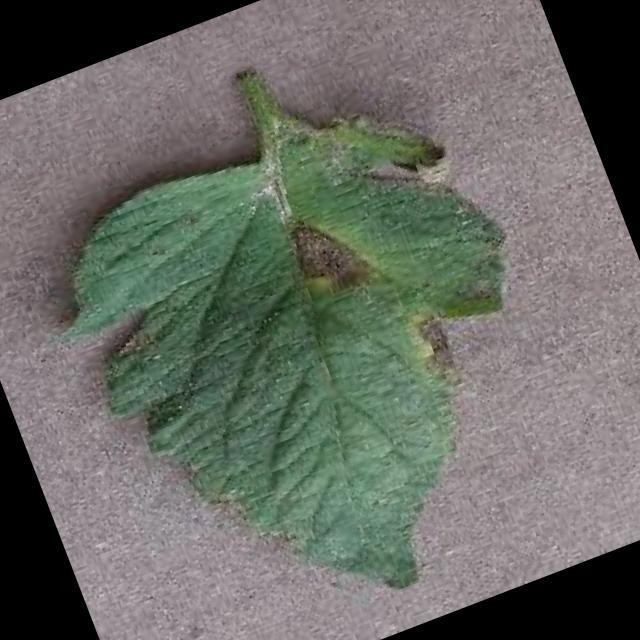Tomato Early blight leaf: (16, 62, 611, 640)
